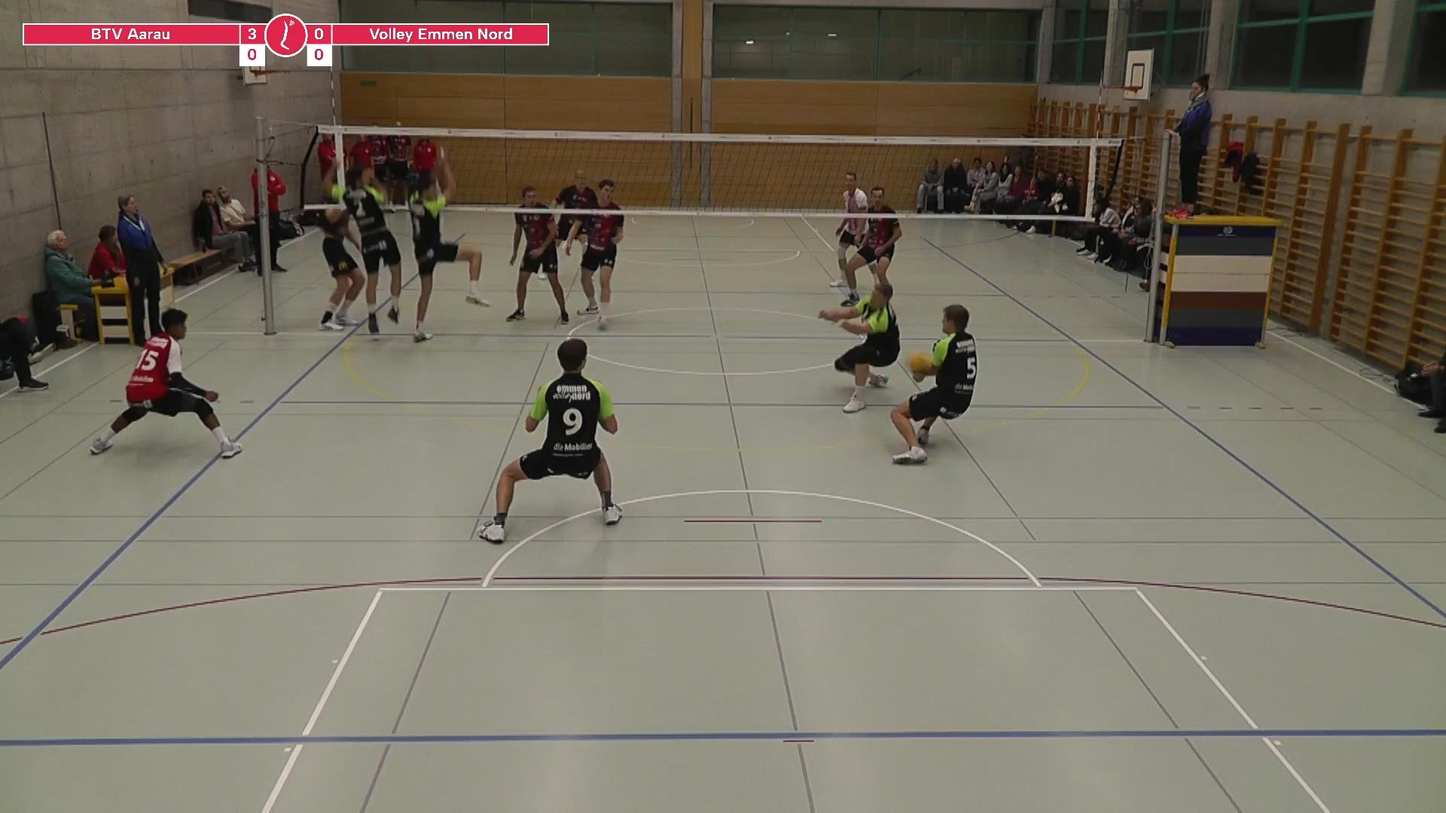Dig: (884, 297, 983, 468)
Player: (478, 339, 621, 544), (90, 309, 241, 458), (409, 153, 485, 342), (325, 167, 401, 334), (819, 279, 899, 413), (566, 178, 624, 328), (507, 186, 569, 323), (320, 201, 365, 330), (846, 187, 902, 281), (832, 172, 868, 297), (553, 169, 597, 239)
ball: (908, 345, 932, 383)
